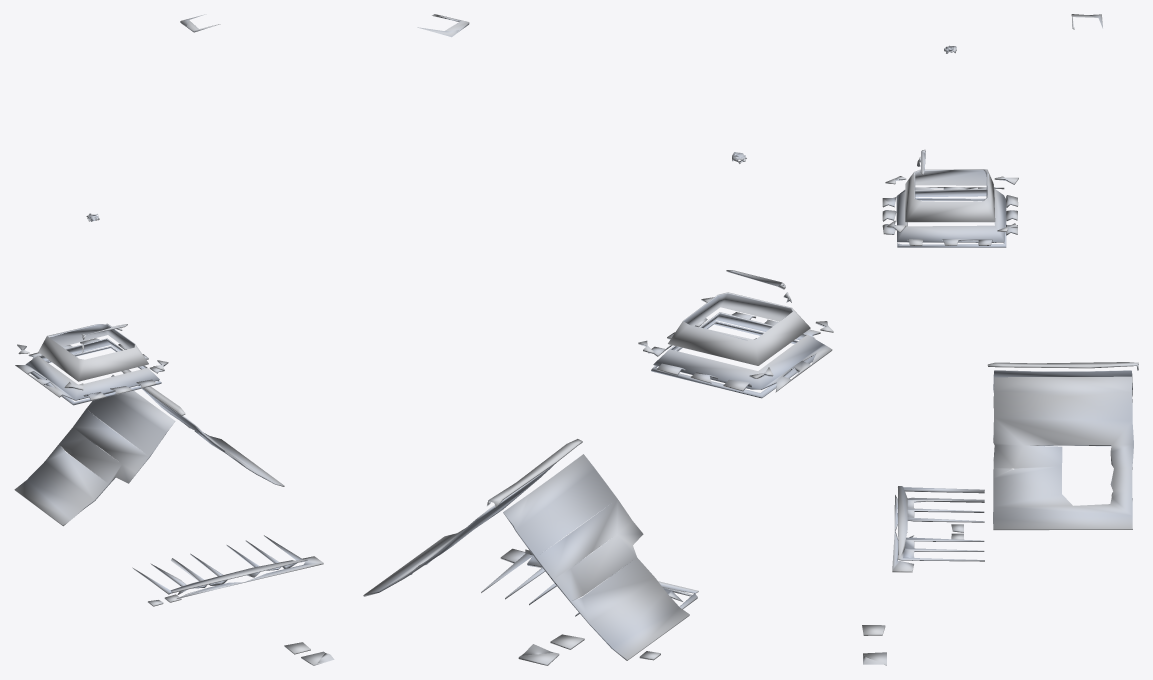
File: protocol.maker.snow.glb
3 views of the same model, side by side, from view 1: azimuth 30°, elevation 25°; view 2: azimuth 150°, elevation 25°; view 3: azimuth 270°, elevation 25° (orthographic). The views are drawn at different scales.
Visible parts, largest first — view 1: building.protocol.maker.snow.mesh; view 2: building.protocol.maker.snow.mesh; view 3: building.protocol.maker.snow.mesh.
Part boxes in pixels (x1,y1,x2,y2): building.protocol.maker.snow.mesh: (14, 14, 334, 665); building.protocol.maker.snow.mesh: (363, 14, 833, 665); building.protocol.maker.snow.mesh: (862, 14, 1138, 665).
Size of the model in its own units: 12.85 by 26.48 by 10.59.
